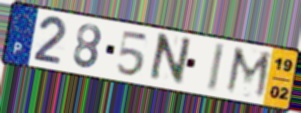2: (32, 14, 69, 69)
5: (115, 29, 151, 78)
8: (72, 23, 103, 70)
I: (205, 41, 227, 94)
M: (222, 45, 275, 103)
N: (145, 31, 194, 88)
